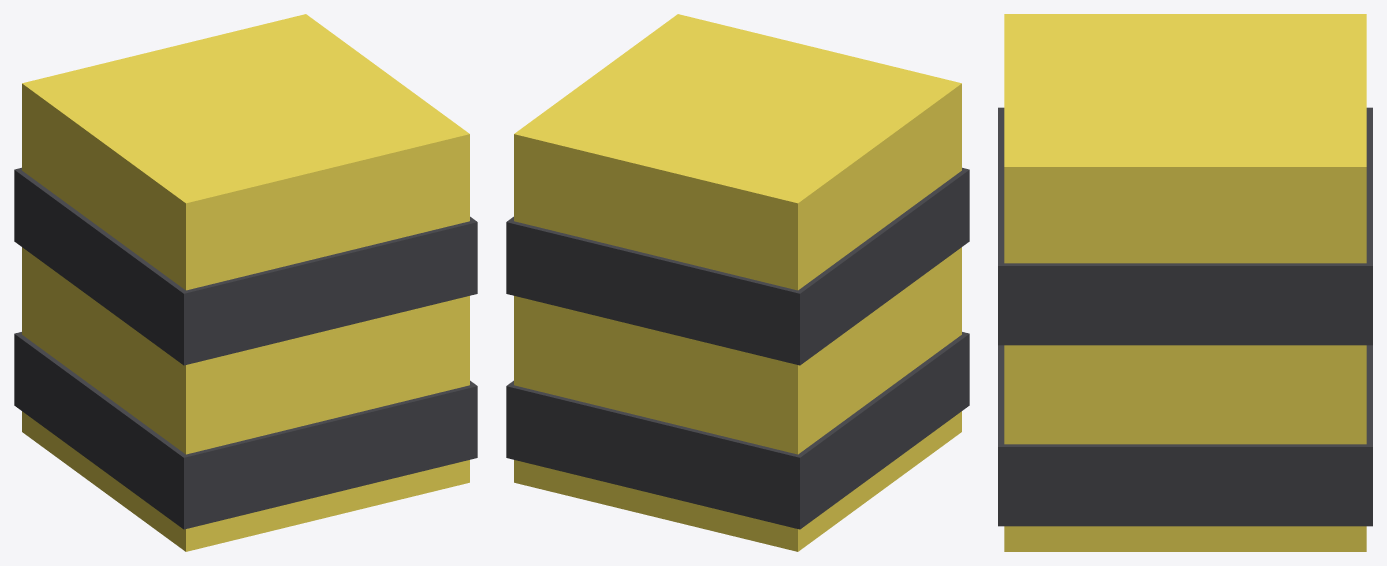
Rendered from abelha_manga_sup.glb.
3 views of the same model, side by side, from view 1: azimuth 30°, elevation 25°; view 2: azimuth 150°, elevation 25°; view 3: azimuth 270°, elevation 25° (orthographic). The views are drawn at different scales.
Parts seen in each view (by area): view 1: abelha_manga_sup; view 2: abelha_manga_sup; view 3: abelha_manga_sup.
Boxes of the visible parts, box(x1,y1,x2,y2) form: abelha_manga_sup: box(14, 14, 477, 551); abelha_manga_sup: box(506, 14, 969, 551); abelha_manga_sup: box(998, 14, 1372, 551).
Bounding box in the file's own units: 0.3 × 0.34 × 0.3.
